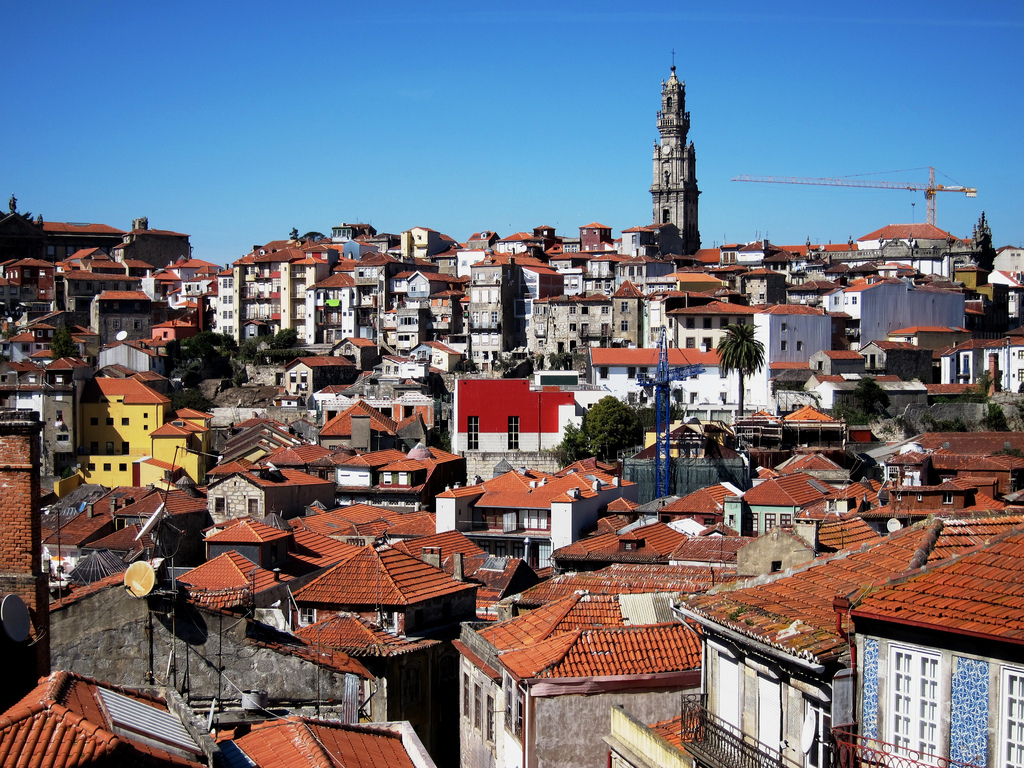clerigos: (647, 48, 702, 255)
